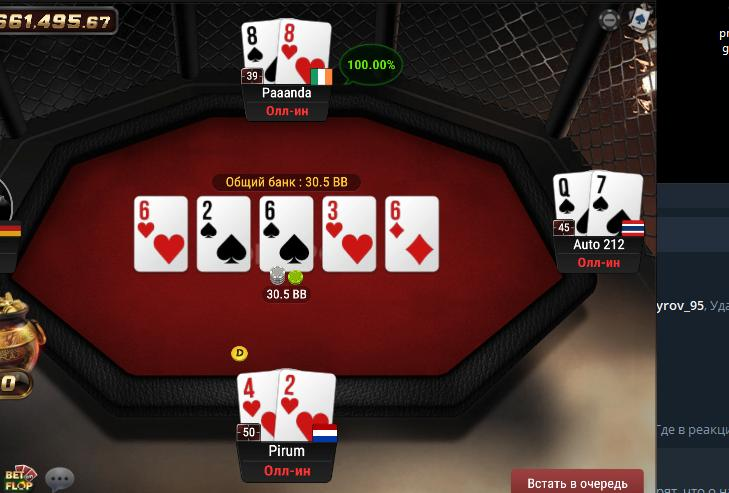2h: (277, 370, 335, 441)
2s: (197, 195, 251, 270)
3h: (322, 197, 376, 270)
4h: (235, 371, 277, 441)
6d: (386, 196, 437, 272)
6h: (134, 197, 188, 271)
6s: (260, 197, 314, 270)
7s: (591, 169, 643, 237)
8h: (278, 19, 329, 82)
8s: (240, 20, 278, 85)
Qs: (552, 172, 590, 235)
